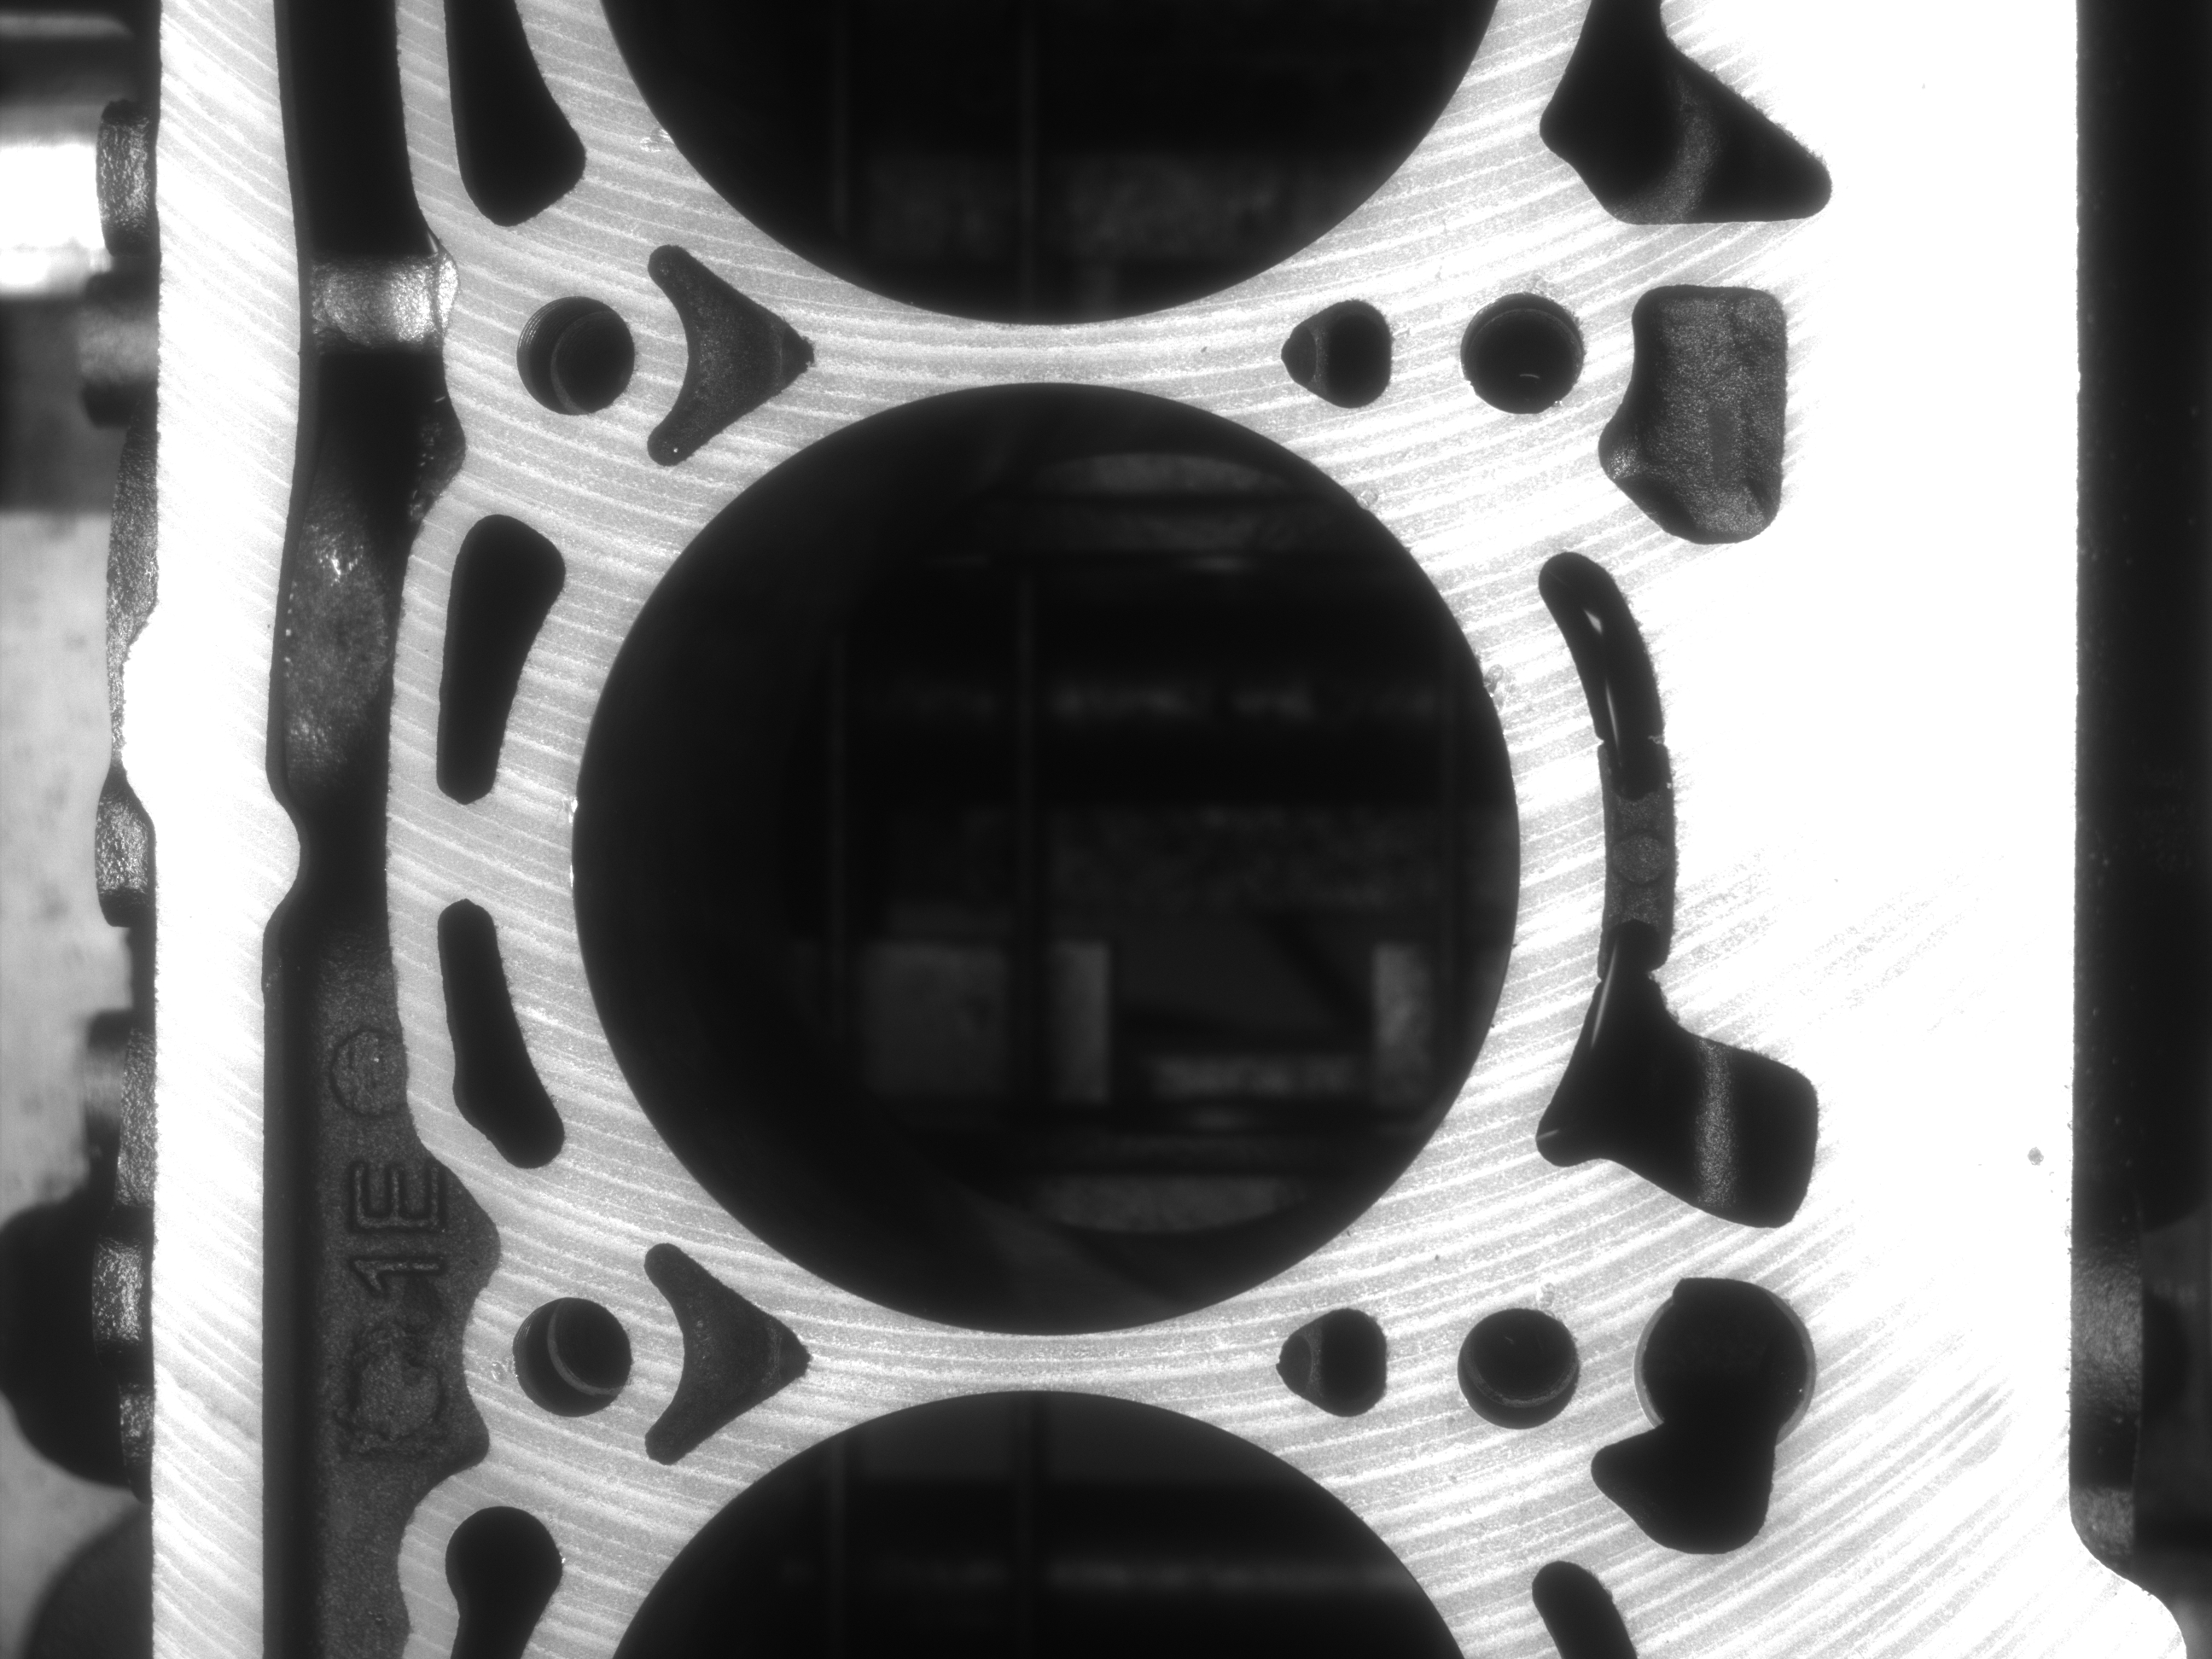shrinkage: (1527, 1265, 1566, 1321), (1489, 655, 1519, 708), (484, 1344, 521, 1380), (1350, 483, 1379, 512)
